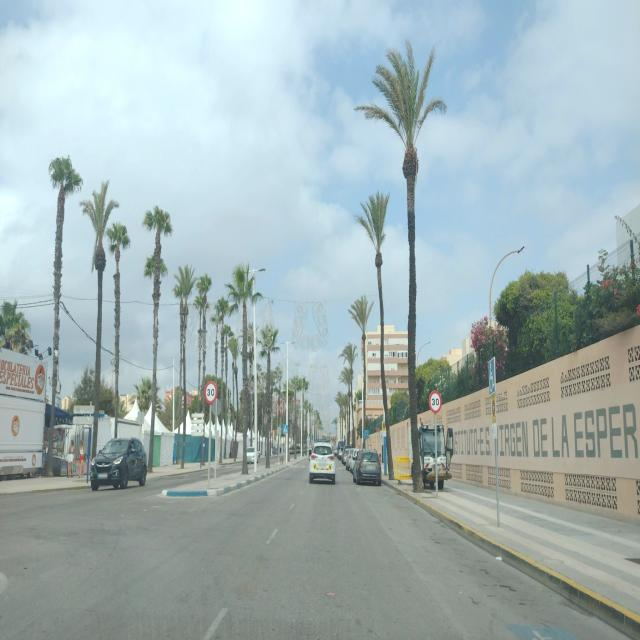car: (89, 436, 148, 492), (309, 442, 336, 484), (353, 450, 382, 486), (348, 448, 360, 474), (345, 448, 357, 471), (246, 444, 258, 464), (343, 447, 353, 466), (337, 444, 344, 460)
